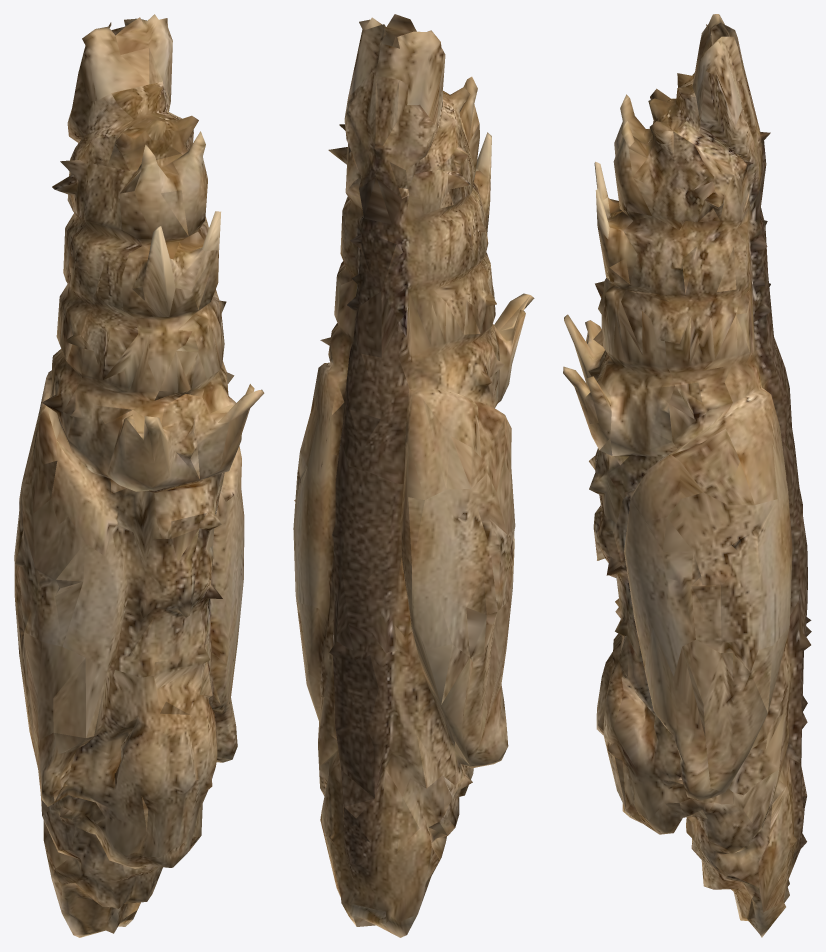
Rendered from crisalida_colobura.fbx.
3 renders of one model, left to right at view 1: azimuth 30°, elevation 25°; view 2: azimuth 150°, elevation 25°; view 3: azimuth 270°, elevation 25°, orthographic. The views are drawn at different scales.
Visible parts, largest first — view 1: tripo_node_e302feea; view 2: tripo_node_e302feea; view 3: tripo_node_e302feea.
Boxes of the visible parts, <box> form: tripo_node_e302feea: <box>14,14,264,937</box>; tripo_node_e302feea: <box>293,14,534,937</box>; tripo_node_e302feea: <box>563,14,811,937</box>.
Size of the model in its own units: 0.625 by 2.6 by 0.6487.
Materials: 1 (1 with a texture image).
